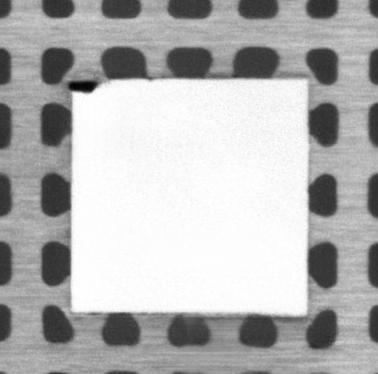DIE_BROKEN: (66, 78, 98, 95)
